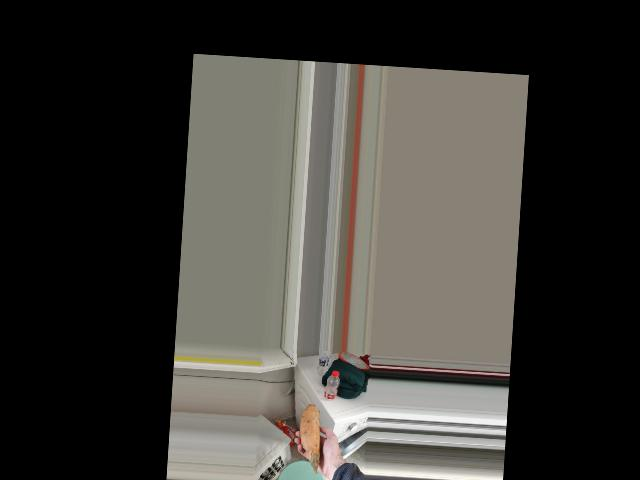sweet_potato: (294, 406, 318, 480)
